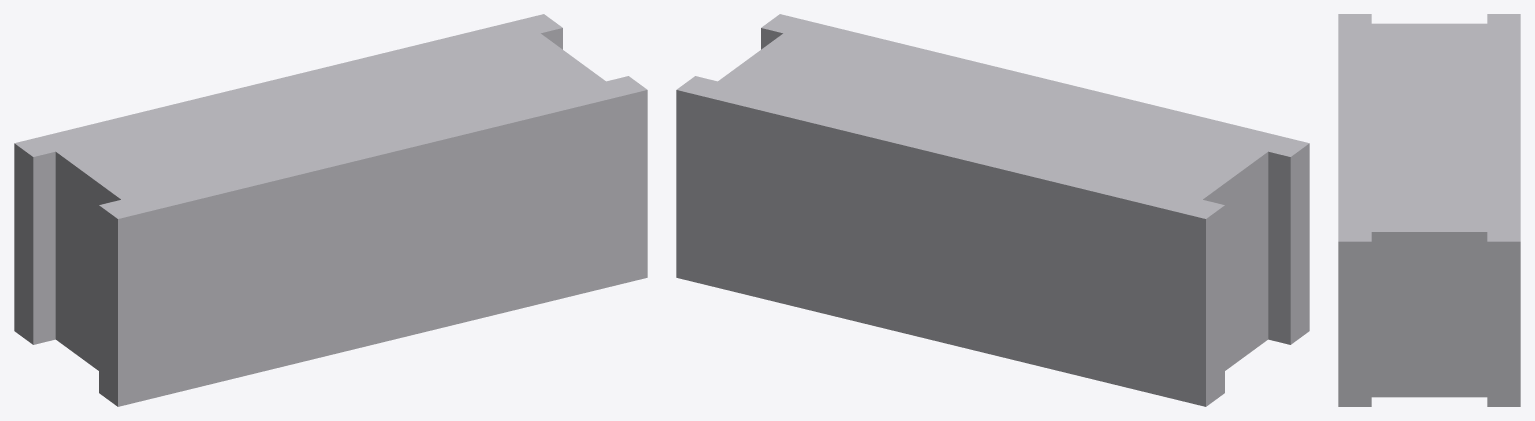
The model's file is Concrete_Block_08.fbx.
3 renders of one model, left to right at view 1: azimuth 30°, elevation 25°; view 2: azimuth 150°, elevation 25°; view 3: azimuth 270°, elevation 25°, orthographic. The views are drawn at different scales.
Visible parts, largest first — view 1: Concrete_Block_08; view 2: Concrete_Block_08; view 3: Concrete_Block_08.
Part boxes in pixels (left/top/right/bottom): Concrete_Block_08: left=14, top=14, right=647, bottom=406; Concrete_Block_08: left=676, top=14, right=1309, bottom=406; Concrete_Block_08: left=1338, top=14, right=1520, bottom=406.
Size of the model in its own units: 70.81 by 24 by 24.
